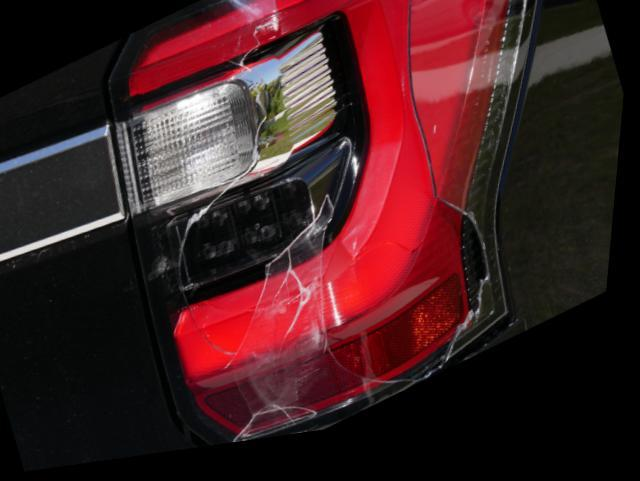lamp broken: (107, 0, 542, 454)
